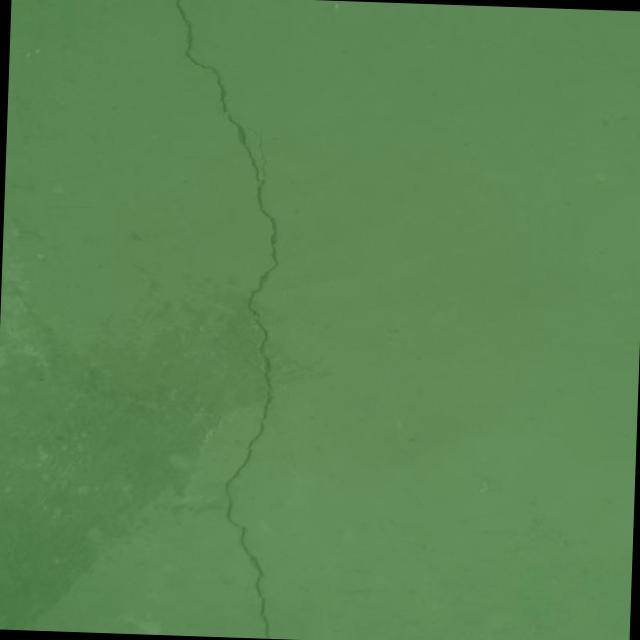crack: (152, 0, 293, 638)
